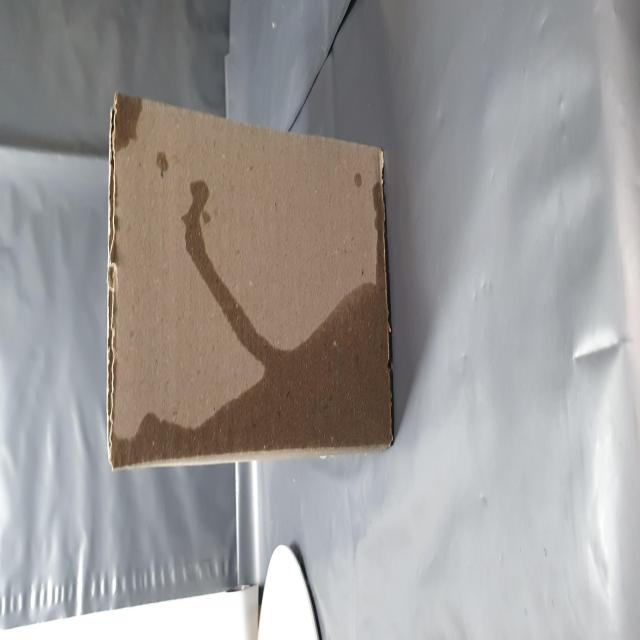wet: (91, 185, 218, 640)
